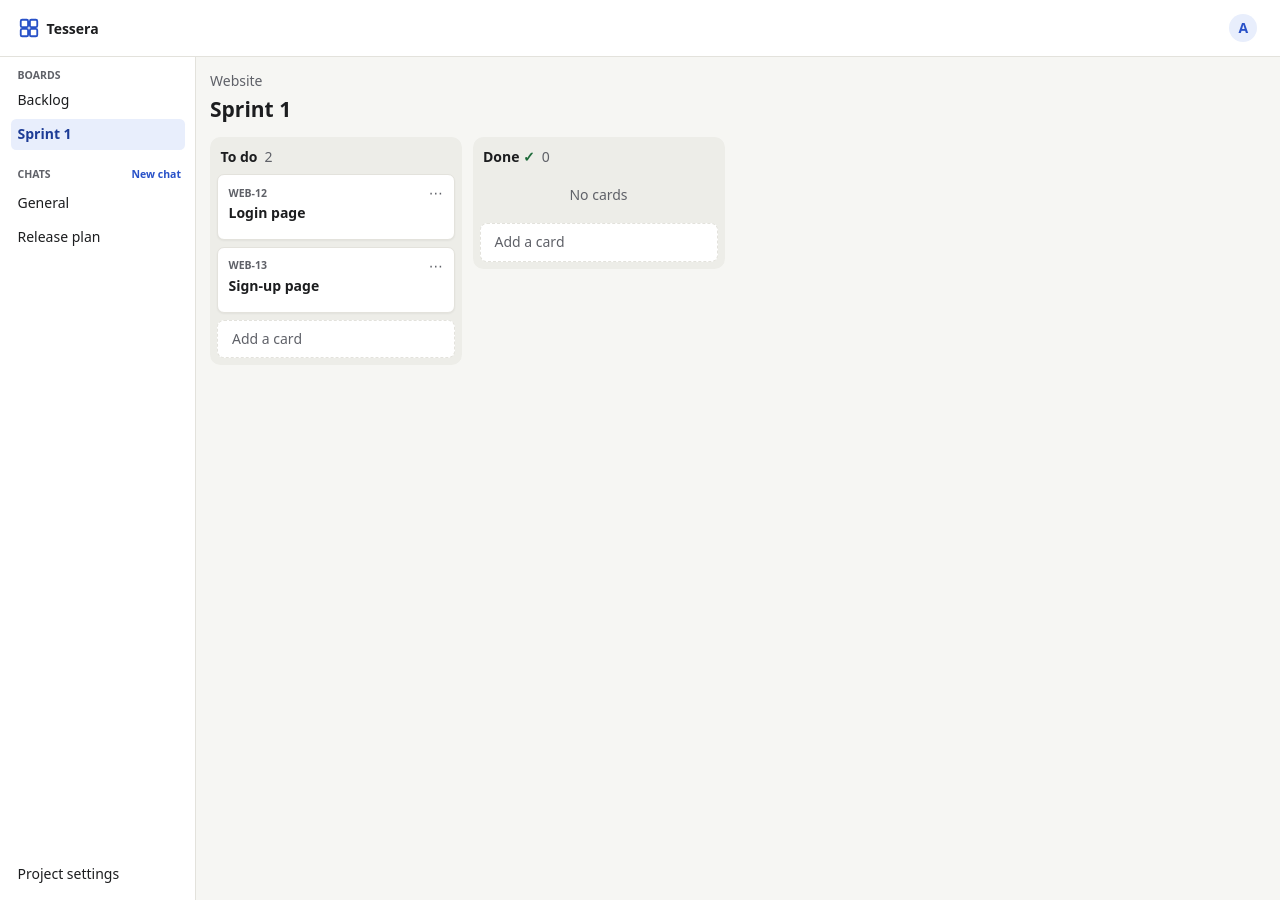
Chats and cards › says when the card could not be made
Click the link "Release plan": coordinates (59, 237) [18,227,100,246]
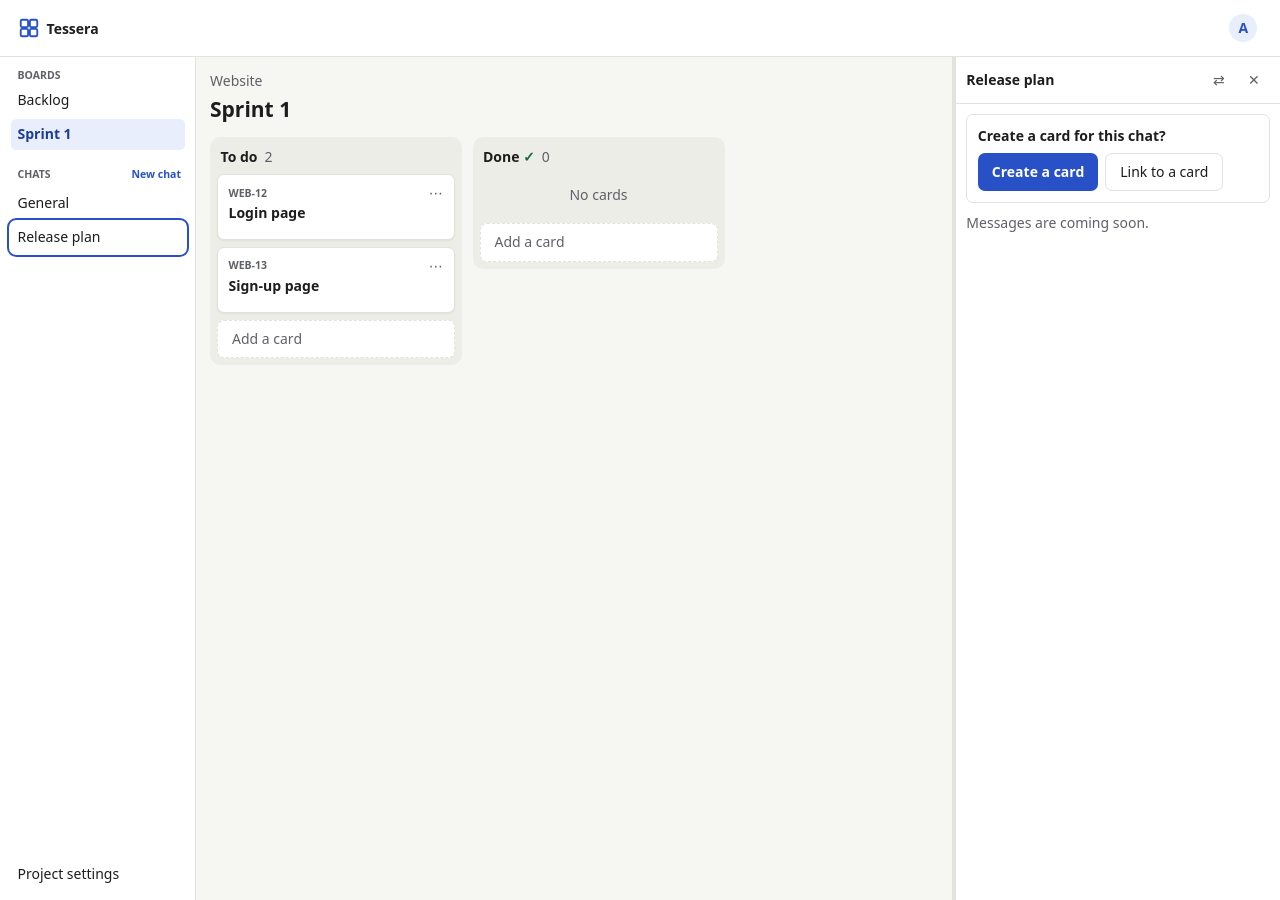
Click the button "Create a card": coordinates (1038, 172) [978,152,1098,191]
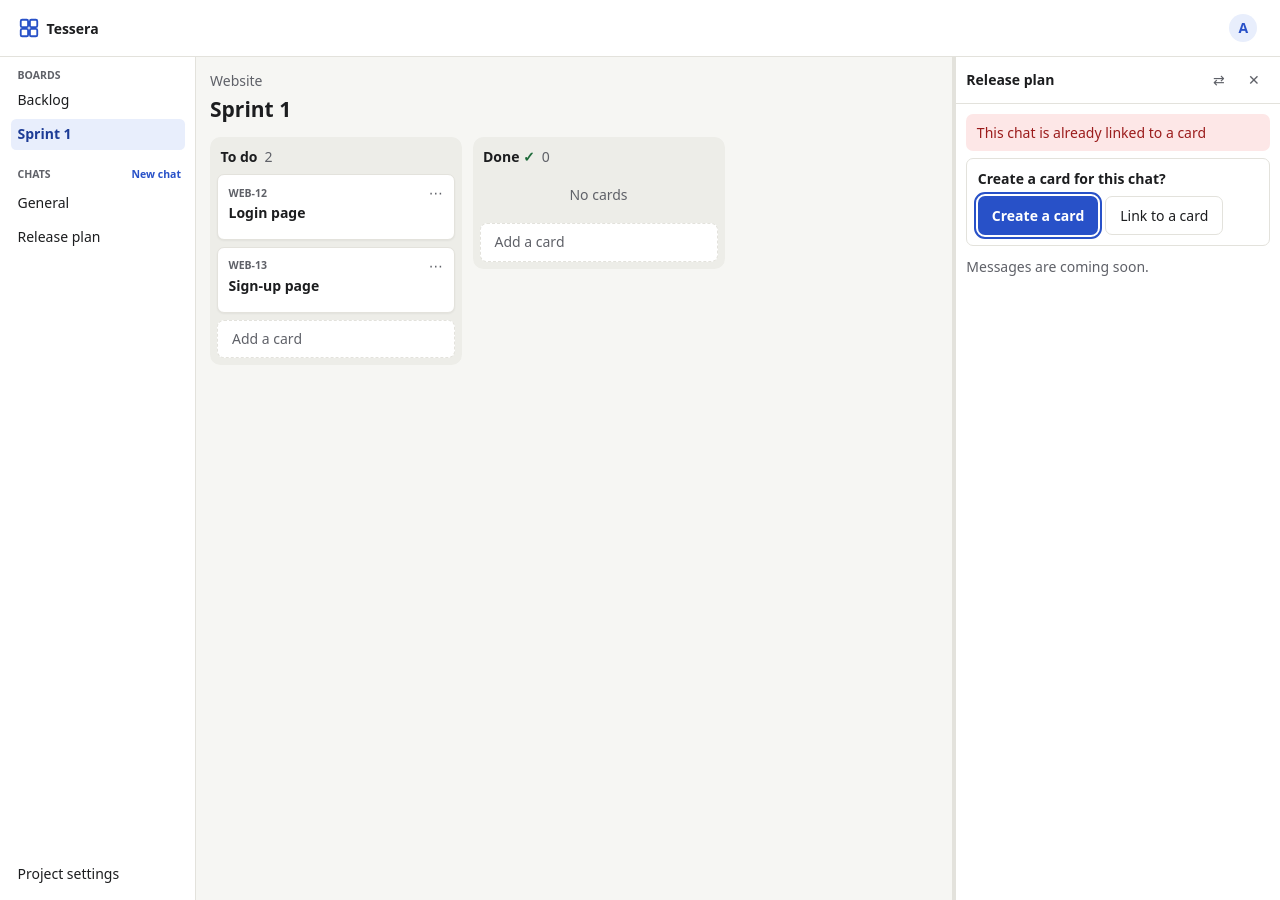
Check: the message reads "This chat is already linked to a card", box [977,123,1206,142]
